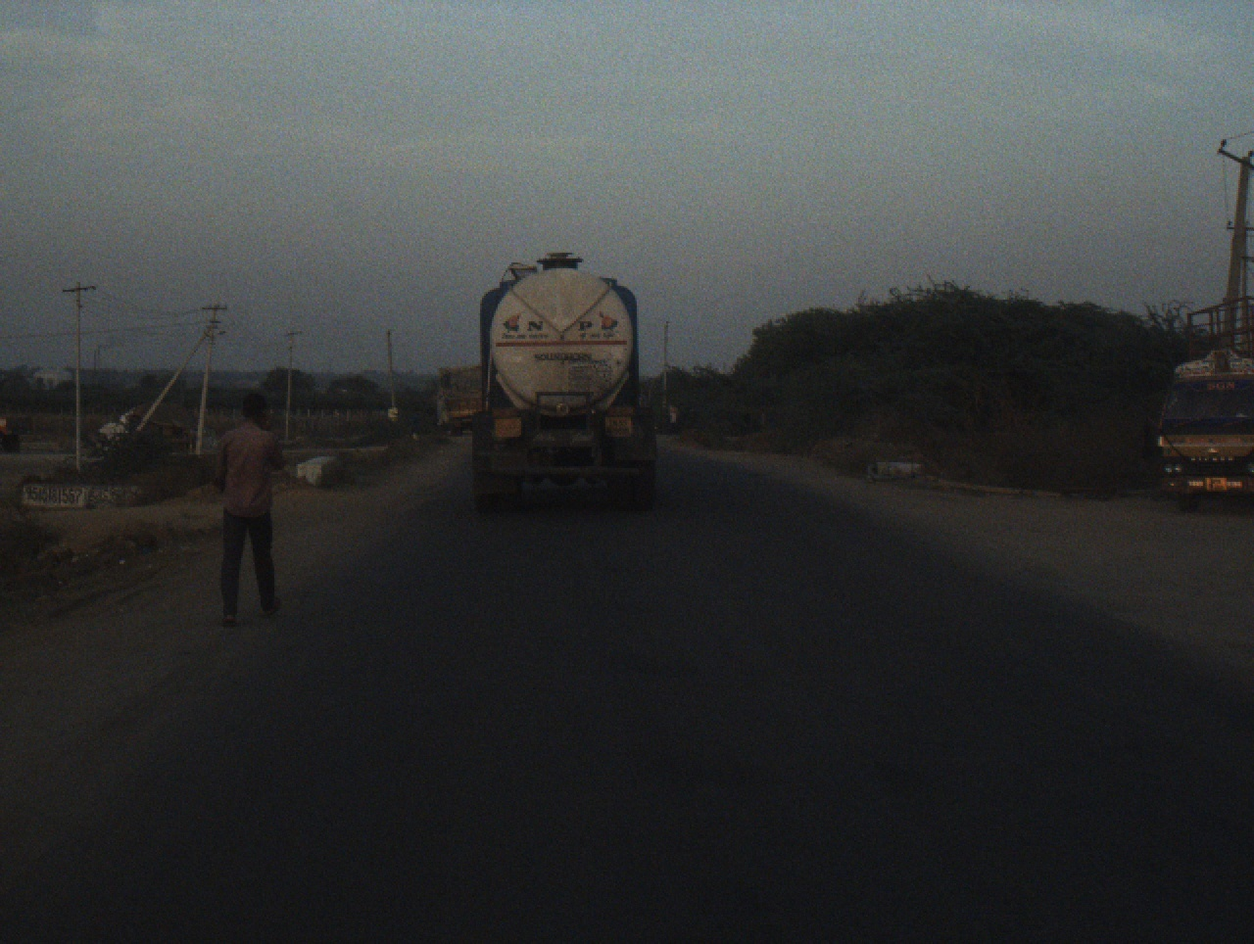person: (210, 390, 286, 631)
truck: (467, 252, 663, 517), (1152, 290, 1254, 518), (427, 359, 496, 440)
